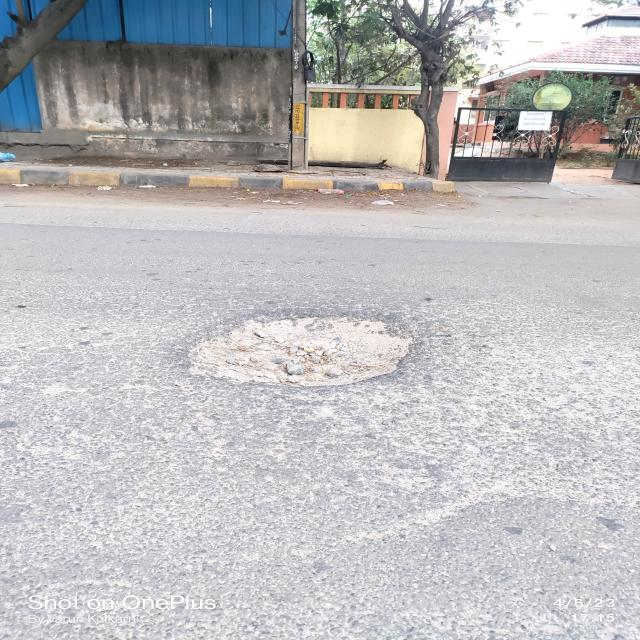potholes: (158, 294, 436, 399)
